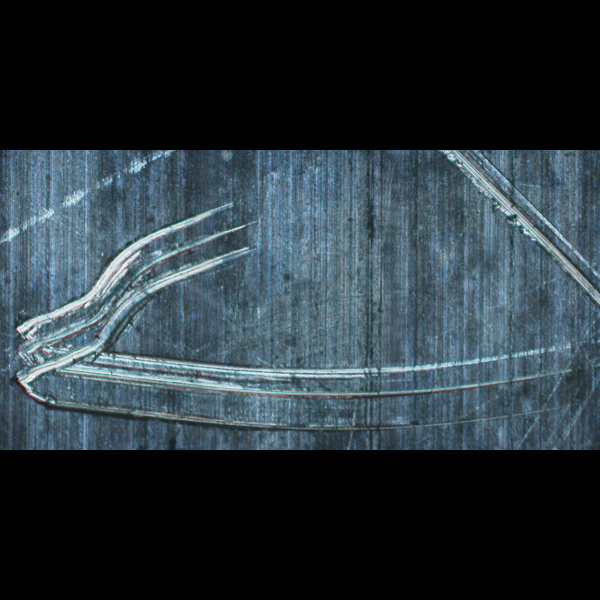d: (5, 190, 584, 434), (425, 150, 600, 310), (0, 150, 180, 262)
